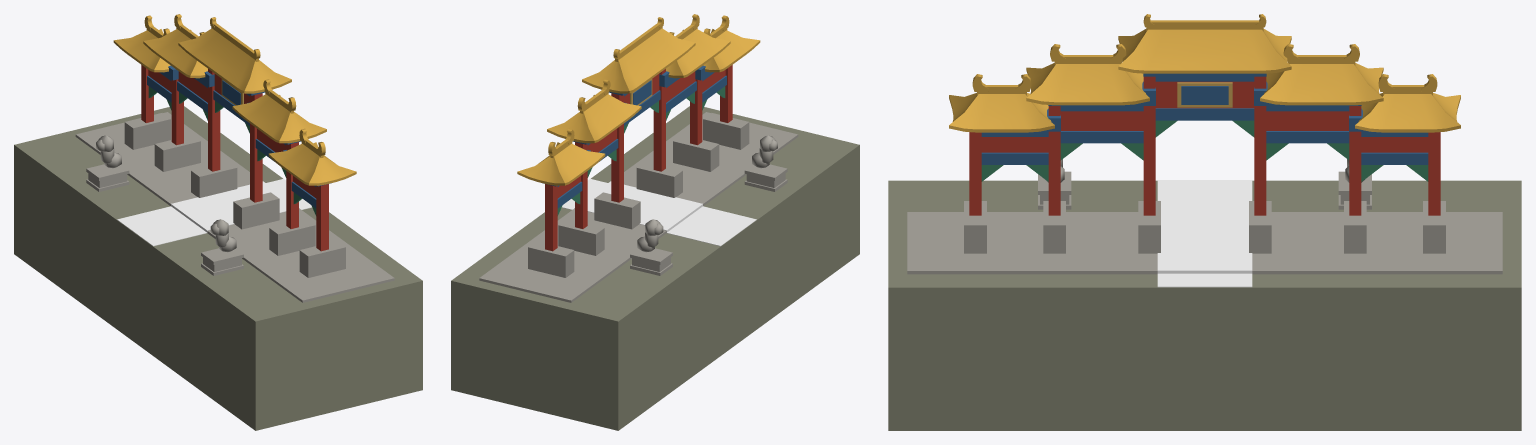
Rendered from far.fbx.
The picture shows the model from 3 angles, left to right: view 1: azimuth 30°, elevation 25°; view 2: azimuth 150°, elevation 25°; view 3: azimuth 270°, elevation 25°; orthographic projection. The views are drawn at different scales.
Visible parts, largest first — view 1: landmark-grand_paifang/0/far; view 2: landmark-grand_paifang/0/far; view 3: landmark-grand_paifang/0/far.
Boxes of the visible parts, x1=… form: landmark-grand_paifang/0/far: x1=14, y1=14, x2=422, y2=430; landmark-grand_paifang/0/far: x1=451, y1=14, x2=859, y2=430; landmark-grand_paifang/0/far: x1=888, y1=14, x2=1521, y2=430.
Size of the model in its own units: 16 by 26 by 40.
